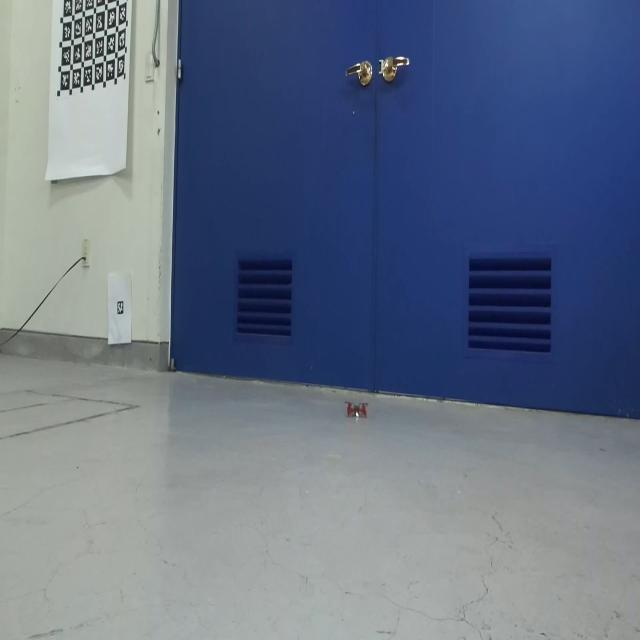crazyflie: (343, 398, 369, 420)
